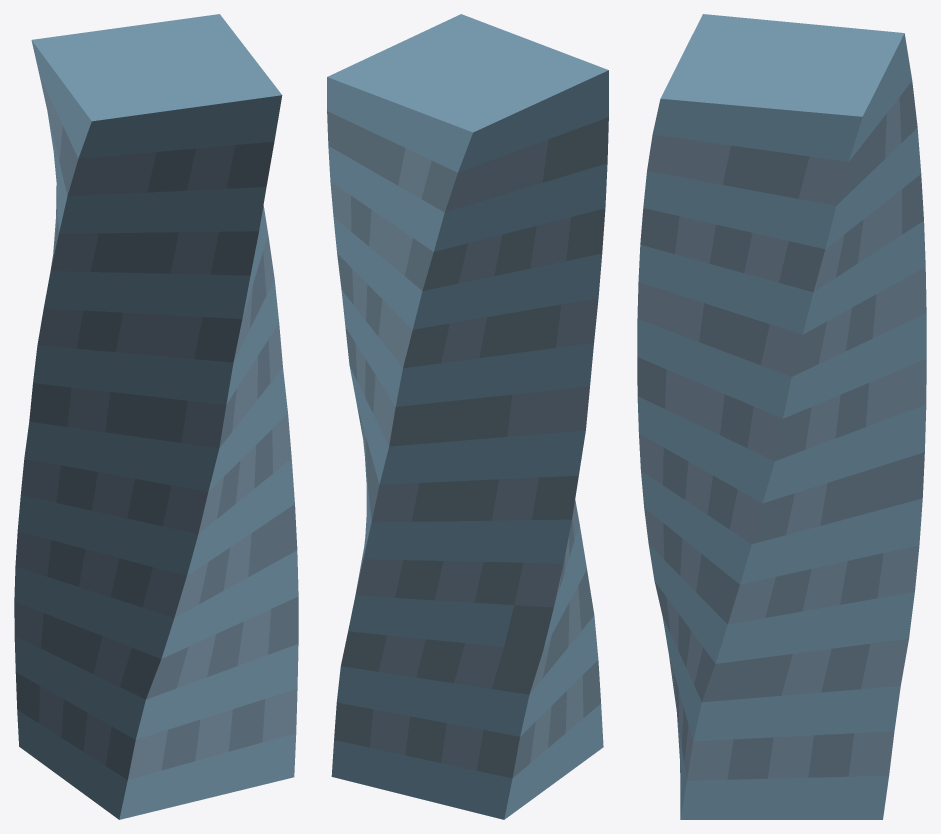
File: LandMark_3.fbx
3 views of the same model, side by side, from view 1: azimuth 30°, elevation 25°; view 2: azimuth 150°, elevation 25°; view 3: azimuth 270°, elevation 25° (orthographic). The views are drawn at different scales.
Visible parts, largest first — view 1: building_5; view 2: building_5; view 3: building_5.
Boxes of the visible parts, left/top/right/bottom form: building_5: left=14, top=14, right=298, bottom=819; building_5: left=327, top=14, right=608, bottom=819; building_5: left=637, top=14, right=926, bottom=819.
Size of the model in its own units: 1.78 by 4.79 by 1.77.
